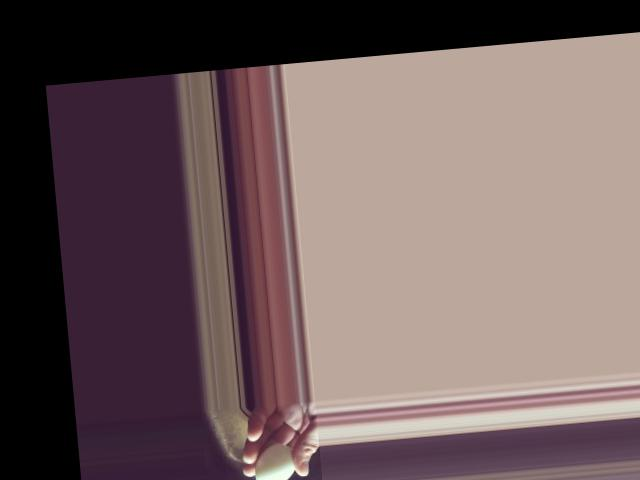egg: (252, 442, 296, 480)
